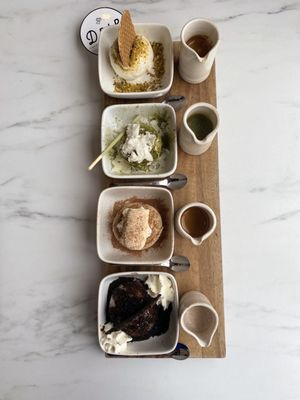pizza: (177, 17, 221, 84), (178, 102, 220, 156), (179, 302, 219, 348)
sushi: (95, 186, 191, 269), (90, 103, 179, 180), (97, 10, 173, 100)
